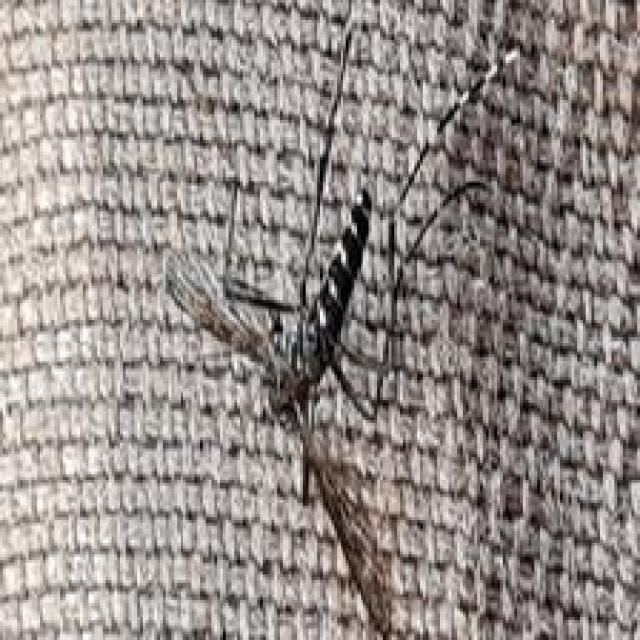Aedes albopictus: (160, 184, 403, 639)
